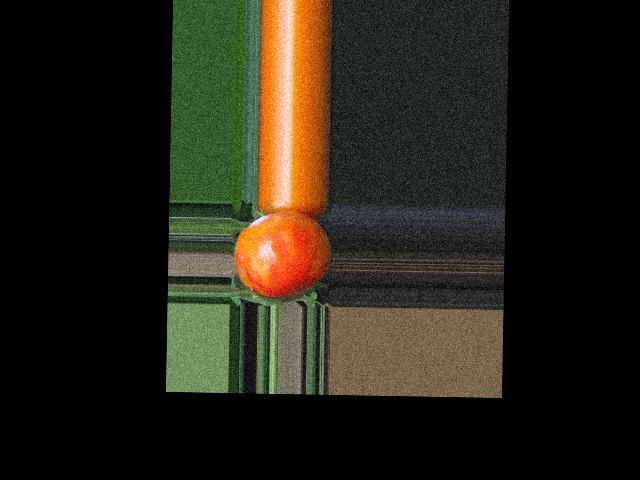tomato: (233, 210, 331, 298)
